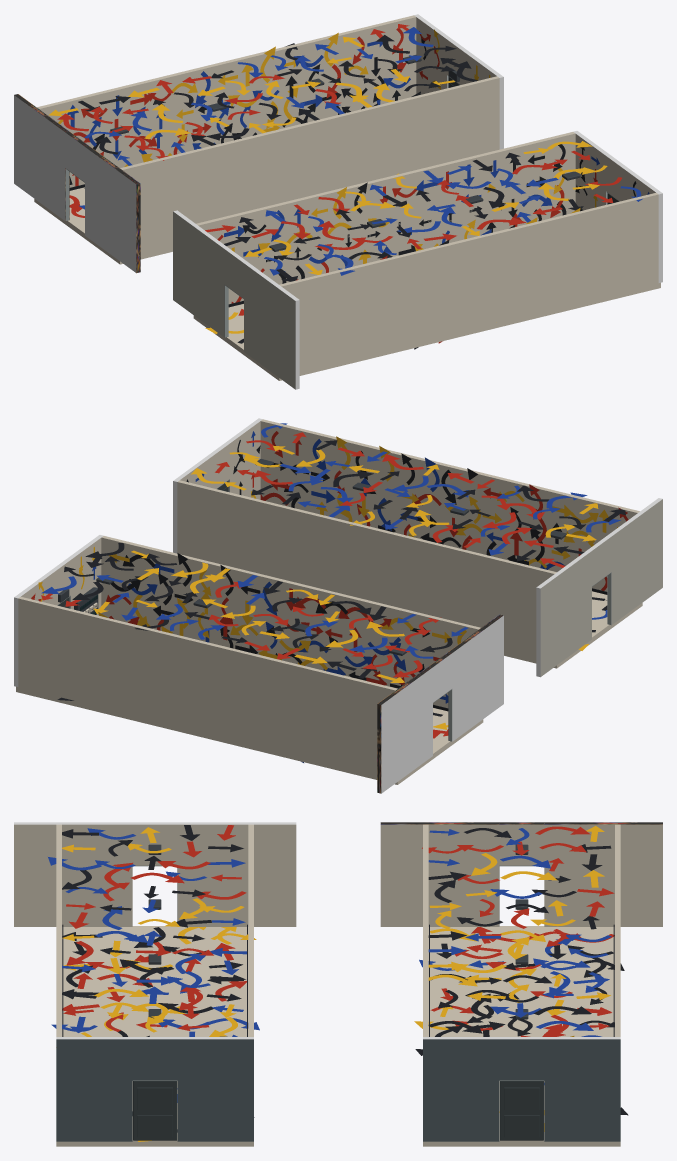
File: R3_MAP_Basic.fbx
3 views of the same model, one above another, from view 1: azimuth 30°, elevation 25°; view 2: azimuth 150°, elevation 25°; view 3: azimuth 270°, elevation 25° (orthographic). The views are drawn at different scales.
Parts seen in each view (by area): view 1: South wall.002, South wall.009, North wall.002, North wall.009, East wall south.001, East wall south.008, East wall north.008, East wall north.001, Floor.002, East wall north.009, East wall north.002, Floor.009 (+5 smaller); view 2: North wall.009, North wall.002, South wall.002, South wall.009, East wall north.001, East wall north.008, East wall south.001, East wall south.008, Floor.009, East wall south.002, East wall south.009, Floor.002 (+6 smaller); view 3: Floor.002, Floor.009, East wall north.001, East wall south.008, East wall north.008, East wall south.001, East wall north.002, East wall north.009, East wall south.002, East wall south.009, East lintel.002, East lintel.009 (+12 smaller).
Part boxes in pixels (x1,y1,x2,y2): South wall.002: (279, 192, 658, 370); South wall.009: (120, 76, 499, 253); North wall.002: (196, 132, 575, 304); North wall.009: (37, 15, 416, 187); East wall south.001: (244, 262, 299, 389); East wall south.008: (85, 146, 140, 273); East wall north.008: (14, 94, 69, 220); East wall north.001: (173, 210, 228, 337); Floor.002: (193, 282, 660, 380); East wall north.009: (414, 14, 450, 94); East wall north.002: (573, 131, 609, 210); Floor.009: (34, 187, 172, 264); North wall.009: (18, 596, 397, 774); North wall.002: (177, 480, 556, 657); South wall.002: (260, 419, 639, 591); South wall.009: (101, 536, 480, 708); East wall north.001: (536, 550, 591, 677); East wall north.008: (377, 666, 432, 793); East wall south.001: (607, 498, 662, 624); East wall south.008: (448, 614, 503, 741); Floor.009: (16, 686, 483, 784); East wall south.002: (226, 418, 262, 499); East wall south.009: (67, 535, 103, 615); Floor.002: (504, 591, 642, 668); Floor.002: (56, 926, 253, 1146); Floor.009: (423, 926, 620, 1146); East wall north.001: (177, 822, 296, 926); East wall south.008: (380, 822, 499, 926); East wall north.008: (544, 822, 662, 926); East wall south.001: (14, 822, 132, 926); East wall north.002: (177, 1037, 253, 1141); East wall north.009: (544, 1037, 620, 1141); East wall south.002: (56, 1037, 132, 1141); East wall south.009: (423, 1037, 499, 1141); East lintel.002: (132, 1037, 177, 1080); East lintel.009: (499, 1037, 544, 1080).
Bounding box in the file's own units: 1847 × 466 × 2300.
